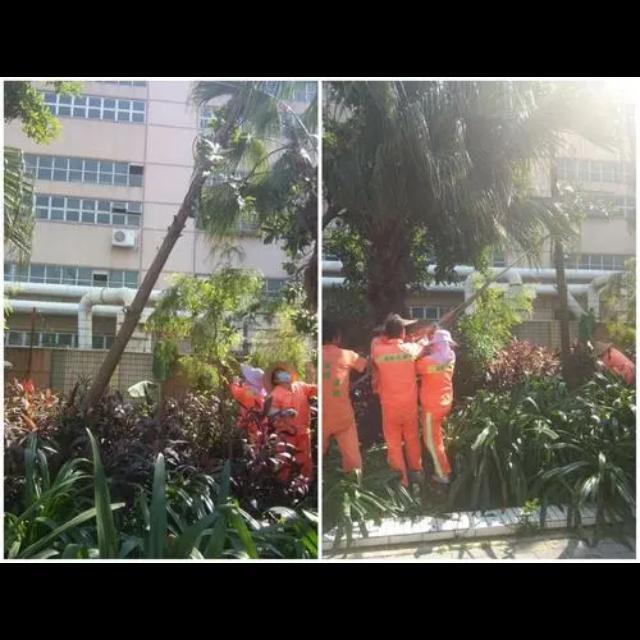fallen_tree: (63, 77, 260, 449)
